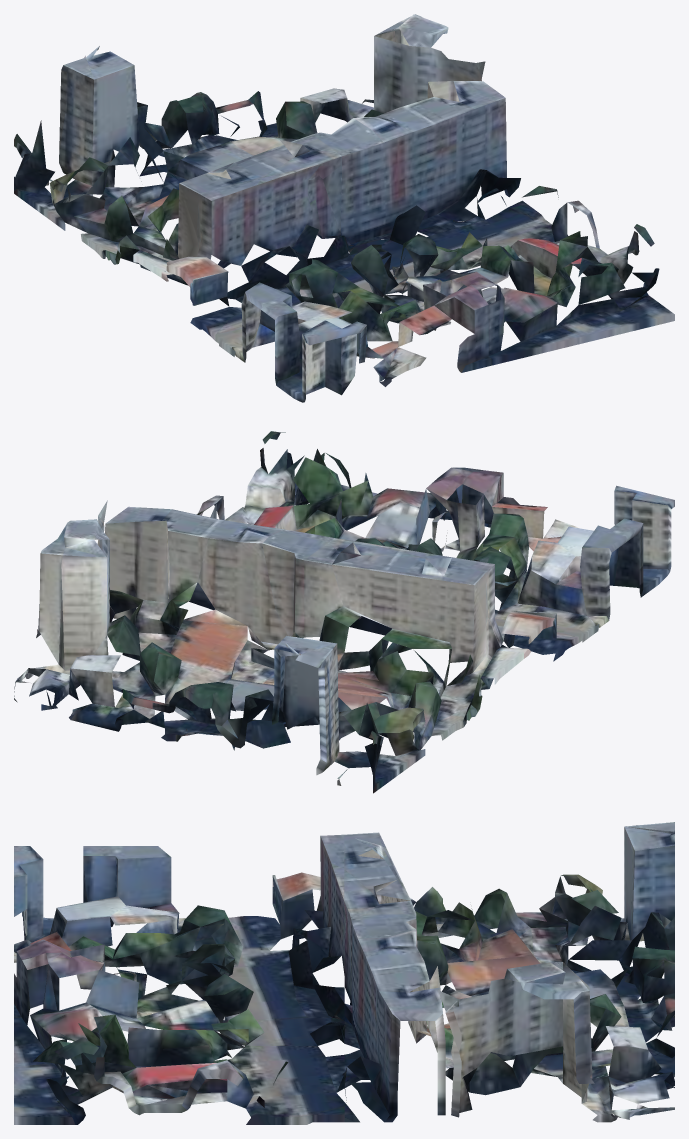
3 views of the same model, one above another, from view 1: azimuth 30°, elevation 25°; view 2: azimuth 150°, elevation 25°; view 3: azimuth 270°, elevation 25° (orthographic). The views are drawn at different scales.
Parts seen in each view (by area): view 1: 304362727043616167_0; view 2: 304362727043616167_0; view 3: 304362727043616167_0.
Part boxes in pixels (x1,y1,x2,y2): 304362727043616167_0: (14, 14, 674, 402); 304362727043616167_0: (14, 431, 674, 793); 304362727043616167_0: (14, 822, 674, 1124).
Bounding box in the file's own units: 109 × 37.61 × 153.
1 material, 1 textured.
